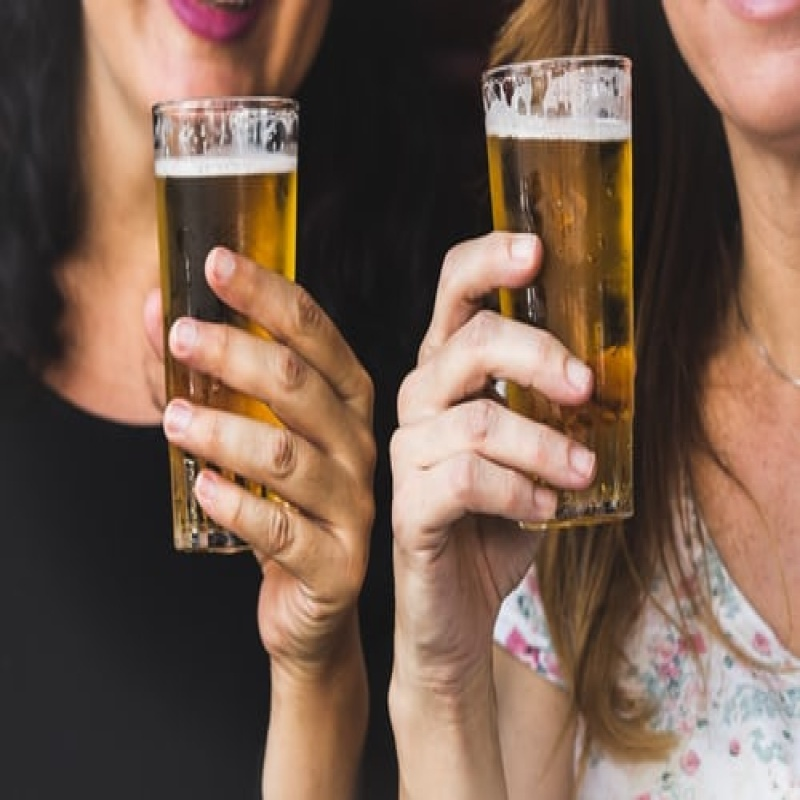whiskey: (475, 52, 654, 532), (145, 100, 293, 555)
